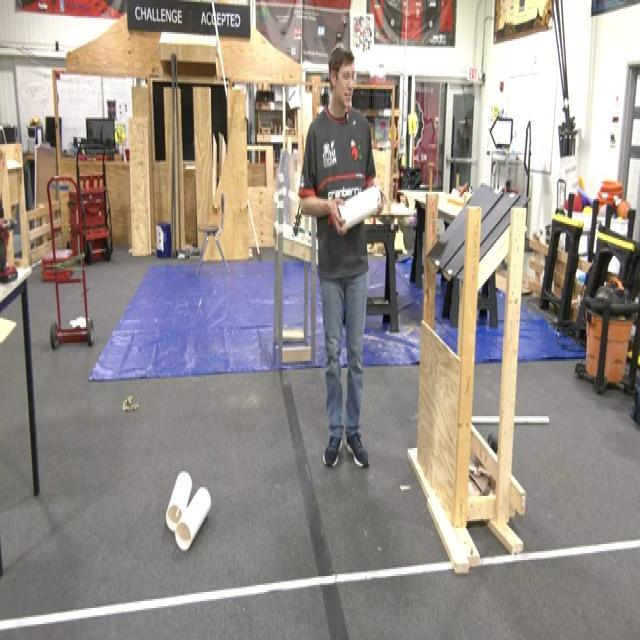Coral: (174, 484, 211, 551), (337, 184, 382, 236), (164, 469, 192, 532)
